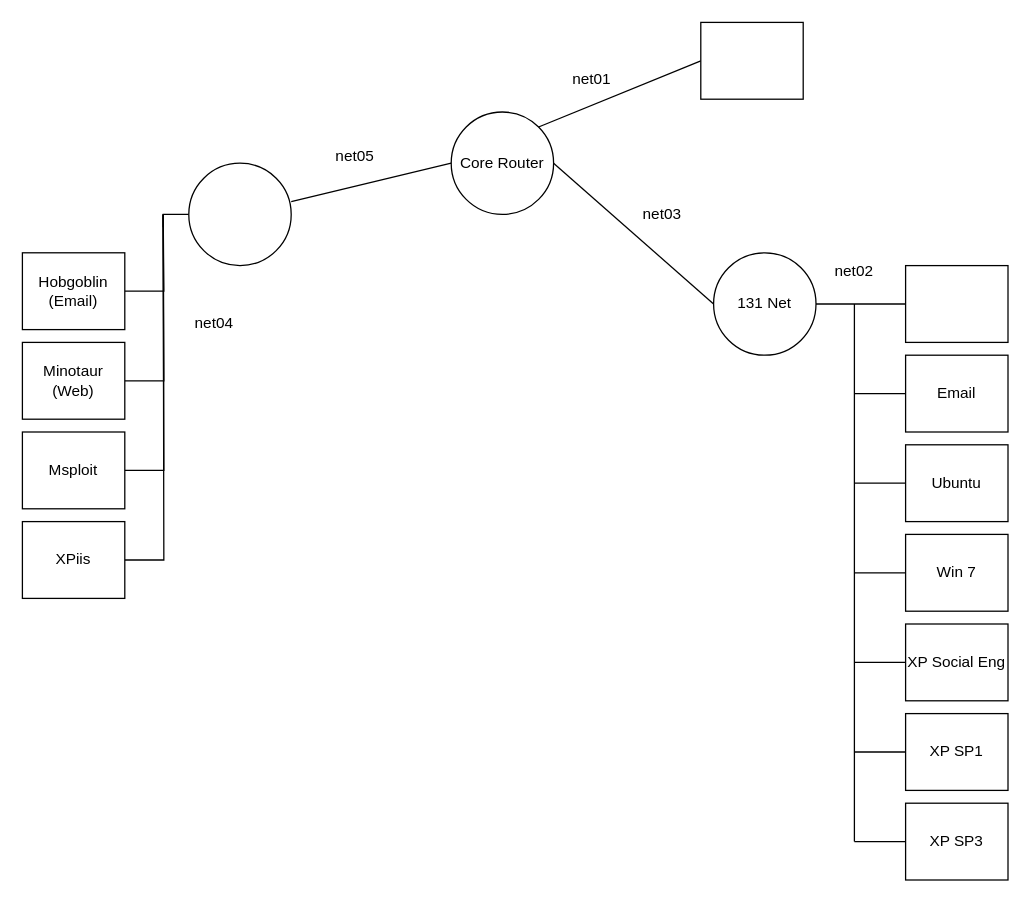
Image size: 1030x902. Some labels were removed from this diagram. Each missing label, with the centre of its shape:
"192 Net" goes at point 239,214.
"DNS" goes at point 956,303.
"Kali" goes at point 751,60.
